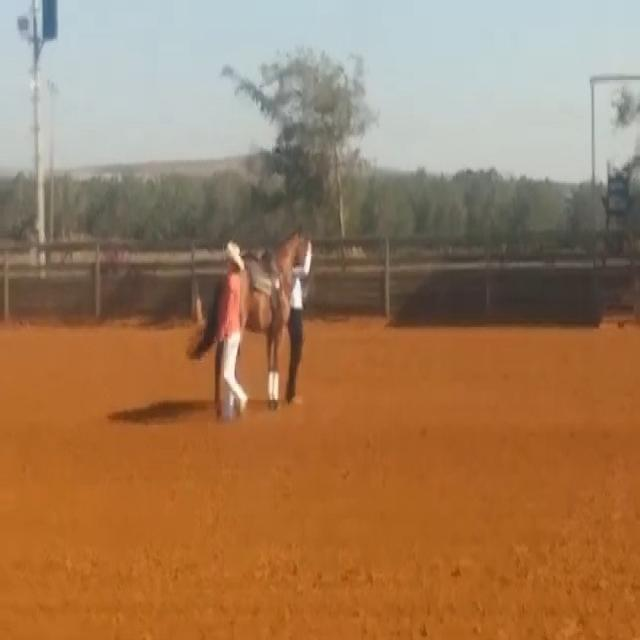horse: (187, 222, 313, 412)
